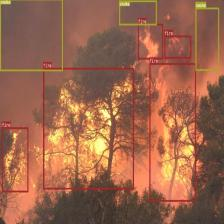fire: (43, 68, 134, 190), (149, 63, 196, 201), (2, 127, 28, 192), (138, 23, 162, 59), (164, 35, 191, 58)
smoke: (0, 0, 63, 71), (195, 7, 219, 70), (118, 0, 156, 25)
